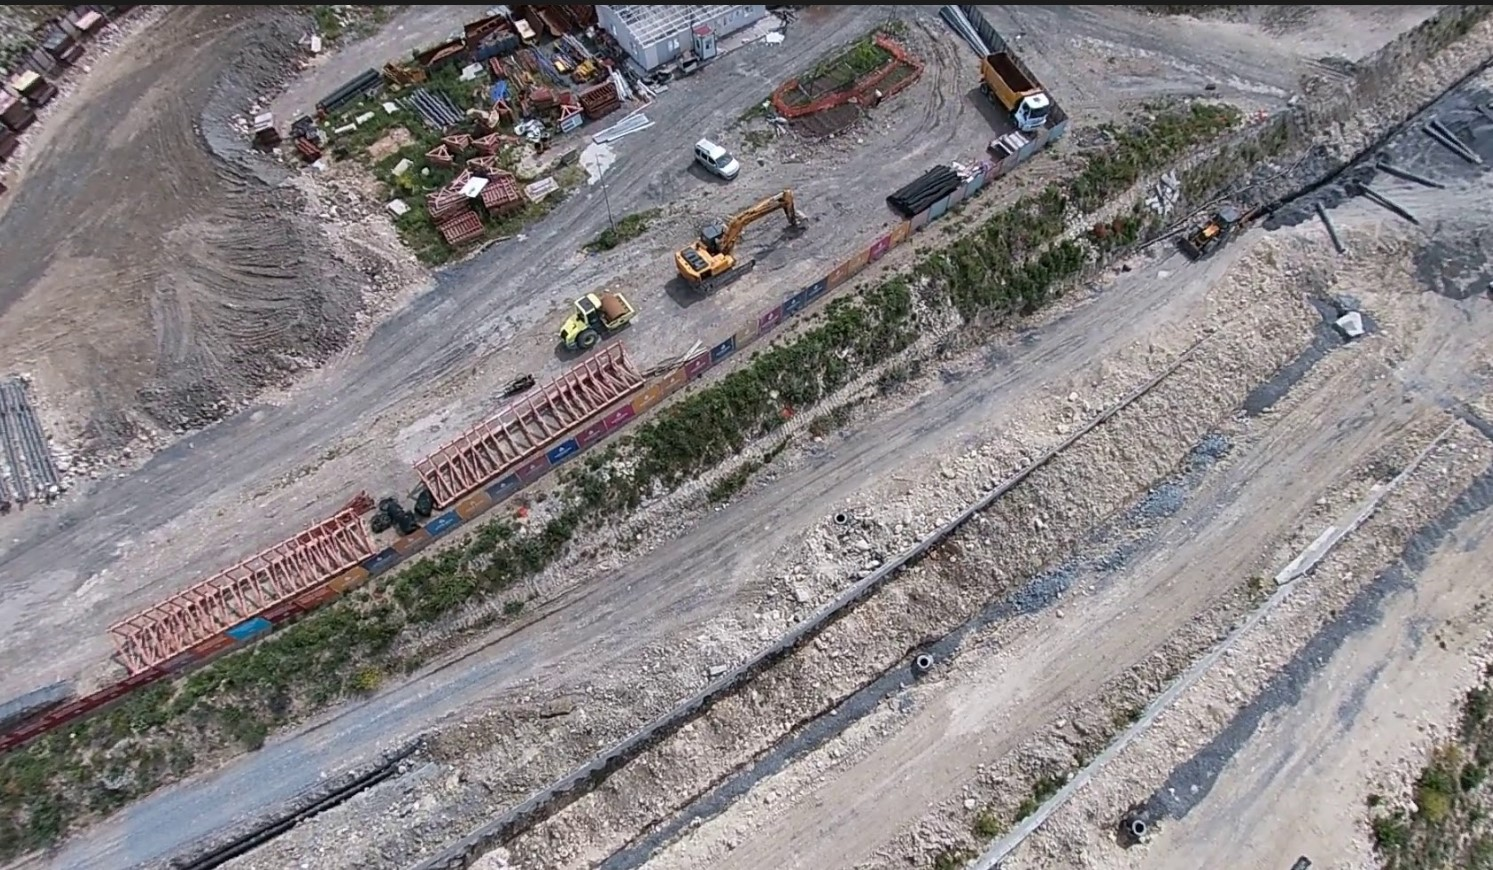araba: (695, 134, 738, 185)
ismakinasi: (672, 189, 815, 286)
kamyon: (978, 49, 1050, 133)
traktor: (553, 292, 636, 348), (1176, 200, 1248, 261)
